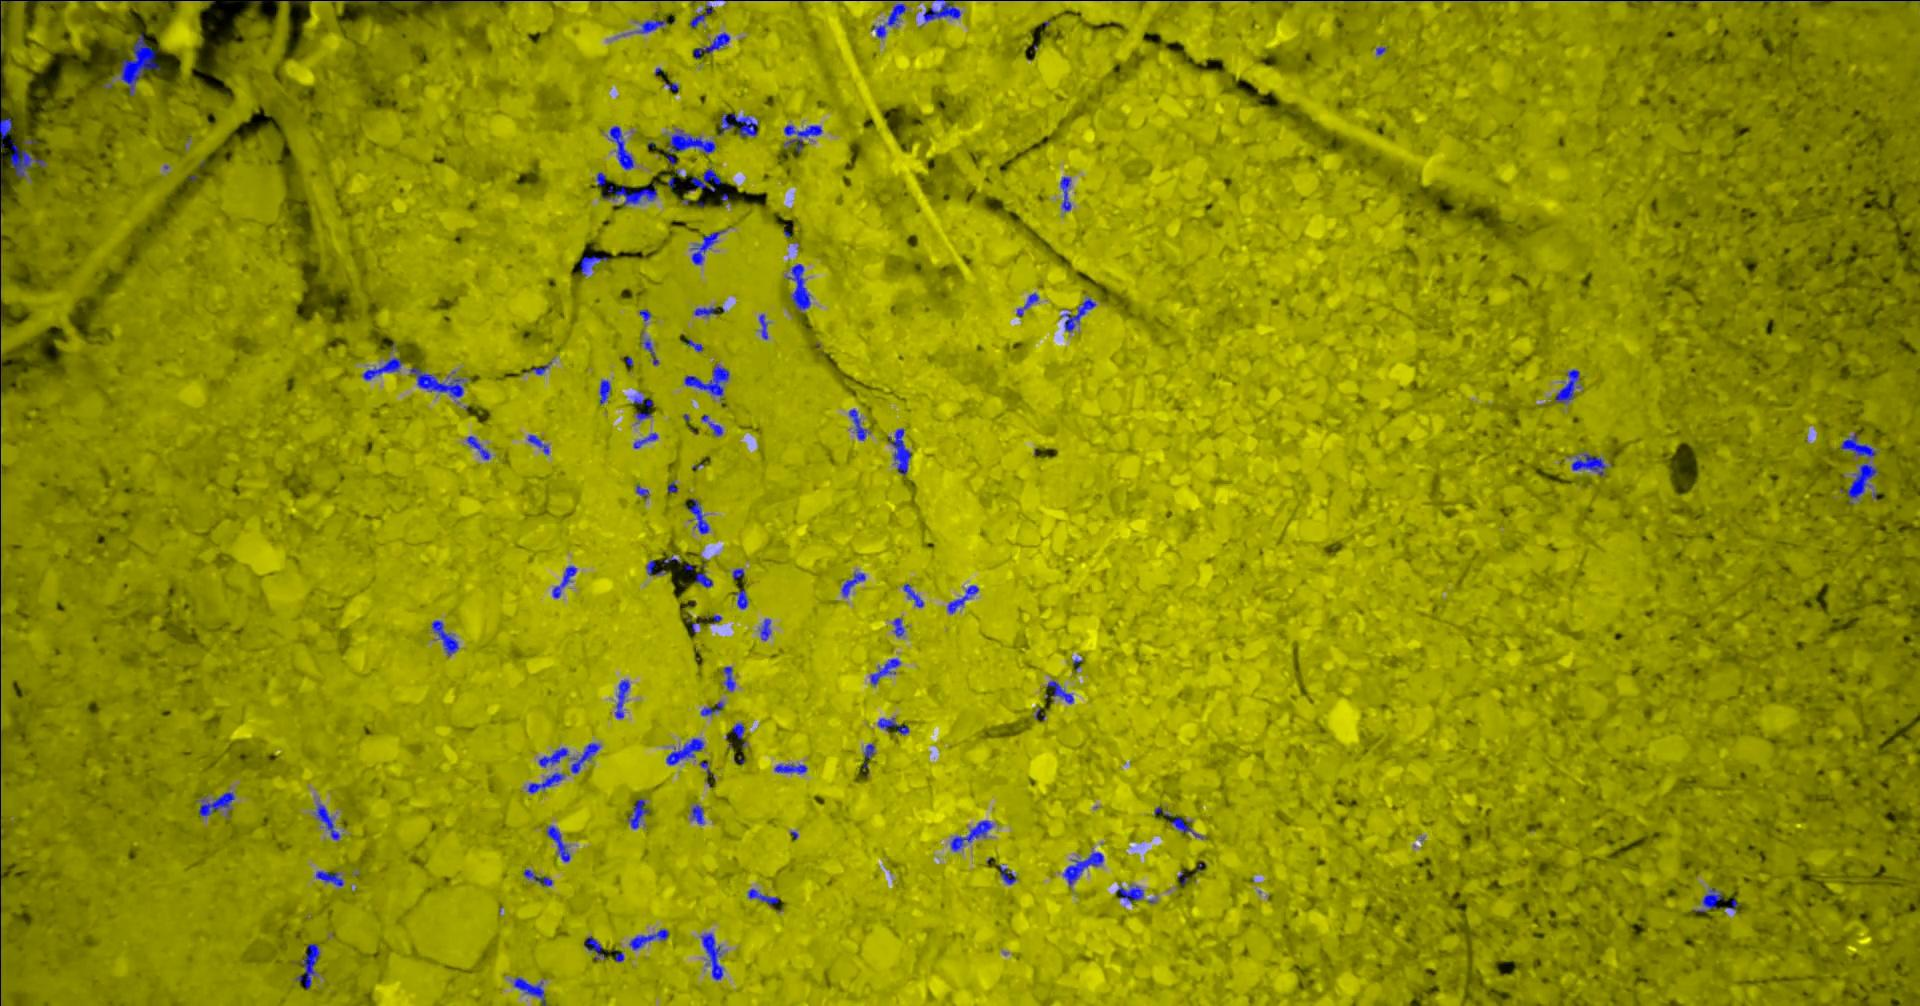ant: (119, 33, 159, 95), (665, 130, 715, 164), (409, 367, 463, 398), (1840, 464, 1877, 504), (684, 365, 728, 398), (1062, 852, 1103, 885), (9, 138, 44, 177), (950, 821, 992, 851), (871, 3, 905, 37), (691, 229, 724, 264), (601, 184, 657, 205), (786, 263, 810, 310), (1060, 298, 1095, 332), (700, 932, 723, 981), (295, 942, 319, 988), (888, 428, 910, 475), (783, 124, 822, 152), (430, 620, 458, 655), (610, 126, 632, 169), (717, 113, 758, 137), (665, 738, 703, 763), (693, 32, 729, 58), (570, 742, 599, 774), (1839, 432, 1876, 456), (513, 977, 545, 1005), (362, 357, 403, 379), (198, 791, 234, 815), (546, 826, 570, 861), (947, 586, 978, 614), (316, 803, 339, 840), (922, 0, 960, 22), (870, 658, 900, 685), (629, 929, 668, 949), (1556, 370, 1580, 401), (552, 565, 577, 597), (688, 168, 721, 191), (527, 772, 564, 793), (1571, 453, 1605, 475), (688, 498, 709, 533), (627, 798, 649, 828), (848, 408, 869, 439), (1046, 680, 1073, 702), (579, 254, 607, 276), (538, 747, 568, 767), (466, 434, 490, 459), (841, 572, 865, 596), (1697, 888, 1722, 911), (747, 888, 778, 906), (877, 716, 908, 734), (615, 680, 629, 718), (1163, 813, 1191, 832), (690, 4, 712, 27), (1016, 292, 1037, 316), (902, 583, 923, 607), (523, 869, 552, 885), (640, 338, 658, 365), (315, 870, 343, 887), (1115, 885, 1143, 902), (585, 935, 604, 959), (701, 414, 723, 434), (635, 19, 665, 33), (527, 434, 549, 453), (632, 432, 657, 448), (0, 117, 11, 151), (1060, 177, 1070, 211), (775, 763, 806, 774), (700, 701, 723, 715), (999, 865, 1016, 884), (645, 560, 665, 575), (723, 666, 735, 690), (695, 572, 712, 587), (632, 392, 651, 406), (733, 589, 747, 608), (599, 379, 610, 404), (695, 306, 723, 315), (863, 743, 874, 767), (891, 617, 904, 636), (691, 804, 703, 823), (758, 314, 767, 339), (731, 721, 744, 739), (759, 619, 770, 640), (596, 171, 604, 185), (345, 0, 425, 1)
